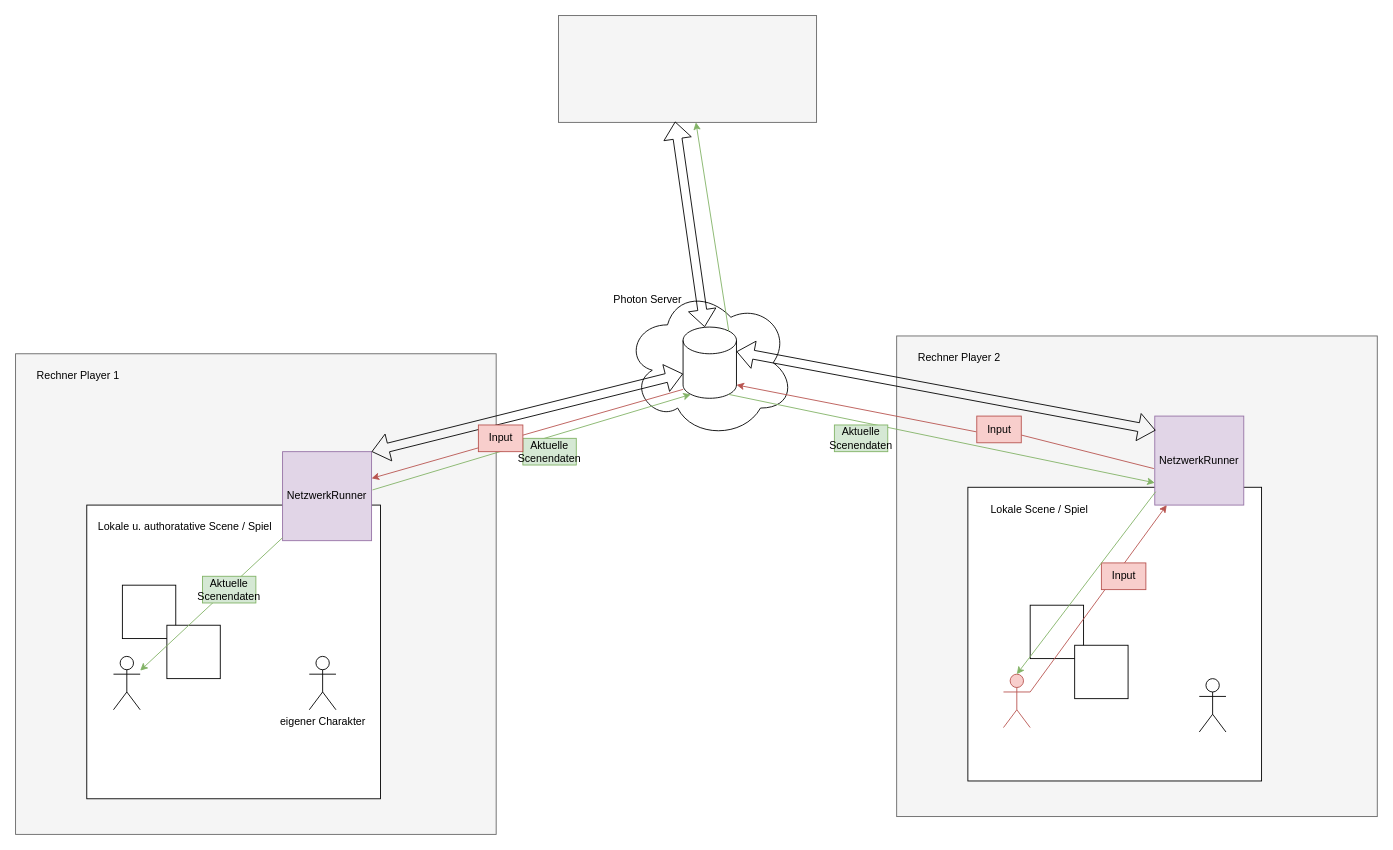
This 1393x850 diagram has some shape labels left out. The shapes that lost their labels are listed below. From the top down, each one's centre as x and y in pixels, then its label:
the point at 687,68: Player 3
the point at 1016,700: eigener Charakter Beispiel
